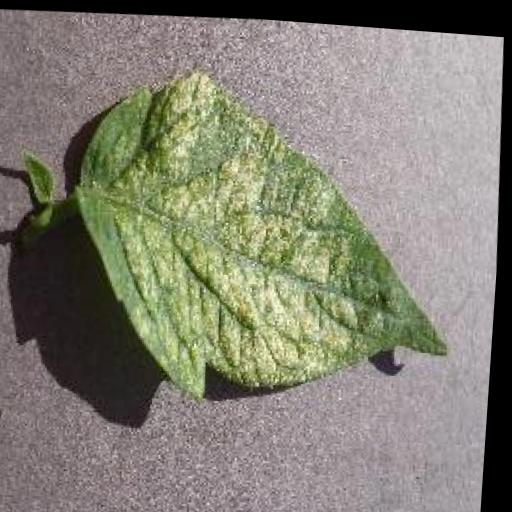Spider Mites: (62, 55, 471, 420)
